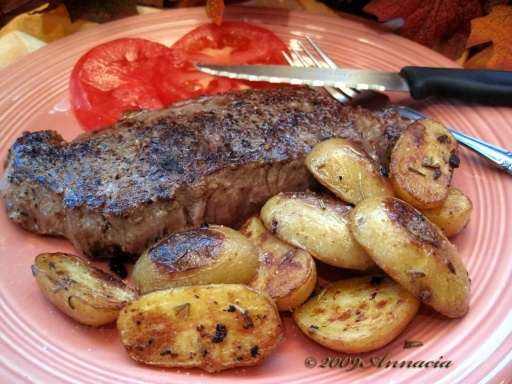background: (0, 11, 379, 223)
